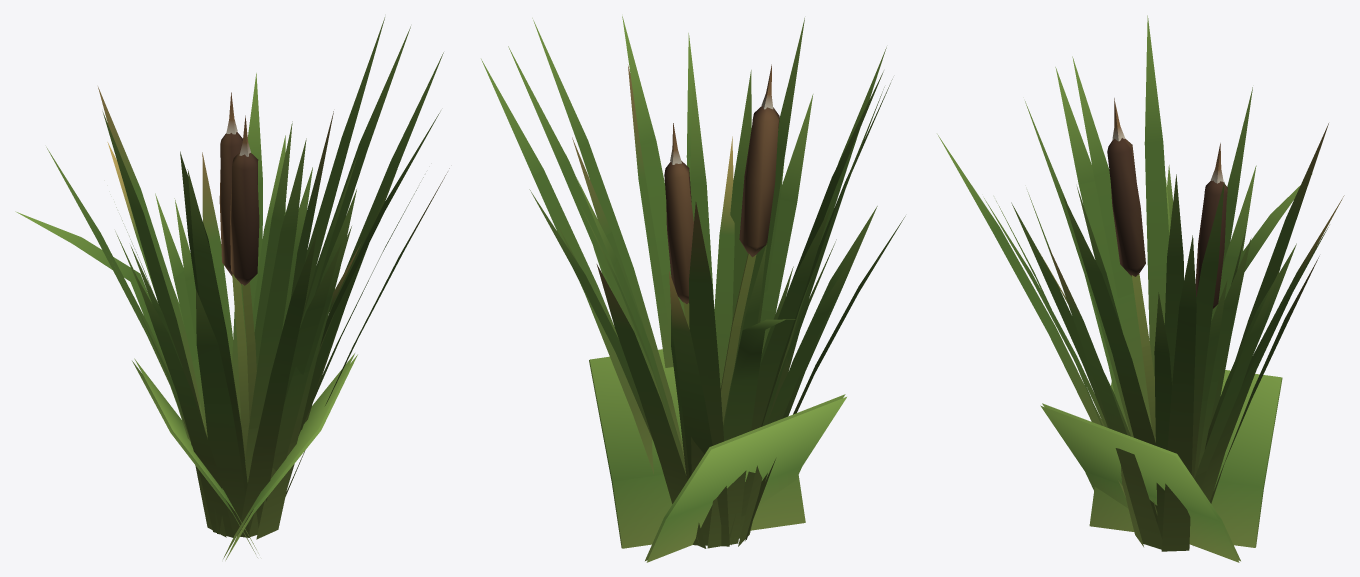
File: reeds_2.glb
3 views of the same model, side by side, from view 1: azimuth 30°, elevation 25°; view 2: azimuth 150°, elevation 25°; view 3: azimuth 270°, elevation 25° (orthographic). The views are drawn at different scales.
Parts seen in each view (by area): view 1: reeds_2; view 2: reeds_2; view 3: reeds_2.
Boxes of the visible parts, x1,y1,x2,y2 form: reeds_2: [15, 17, 449, 560]; reeds_2: [481, 16, 905, 562]; reeds_2: [937, 15, 1344, 562].
Bounding box in the file's own units: 0.3308 × 0.396 × 0.3259.
